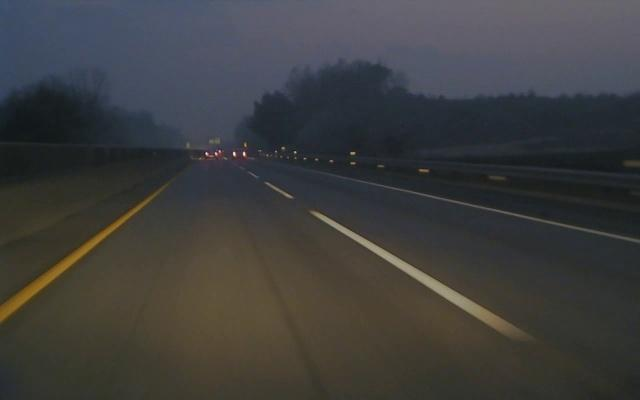lane: (255, 175, 538, 341), (2, 187, 163, 322), (375, 183, 640, 244)
